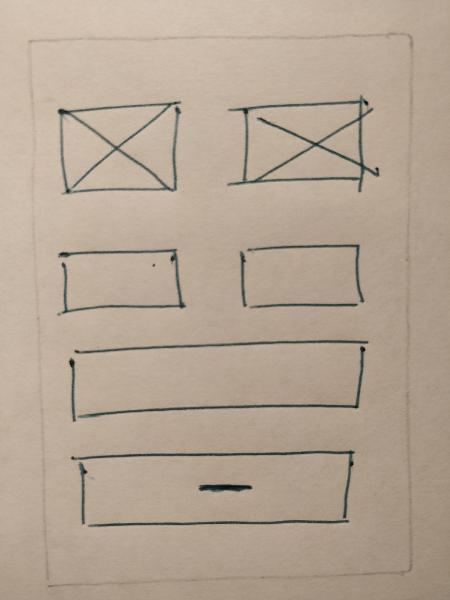button: (67, 448, 361, 531)
image: (223, 92, 387, 201), (53, 95, 185, 203)
text_input: (60, 336, 383, 426), (228, 237, 375, 316), (51, 242, 190, 320)
